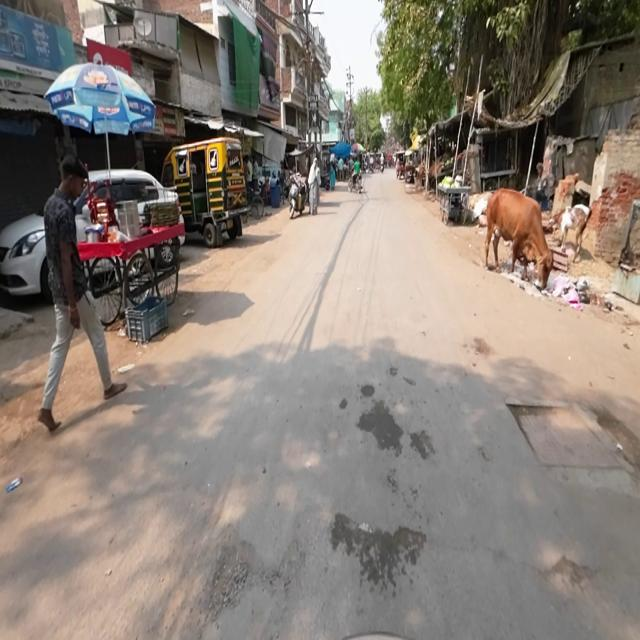Garbage: (551, 274, 590, 306)
